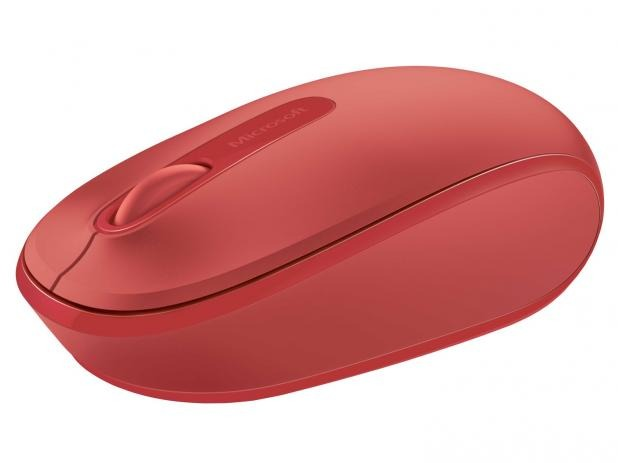mouse: (21, 64, 604, 406)
